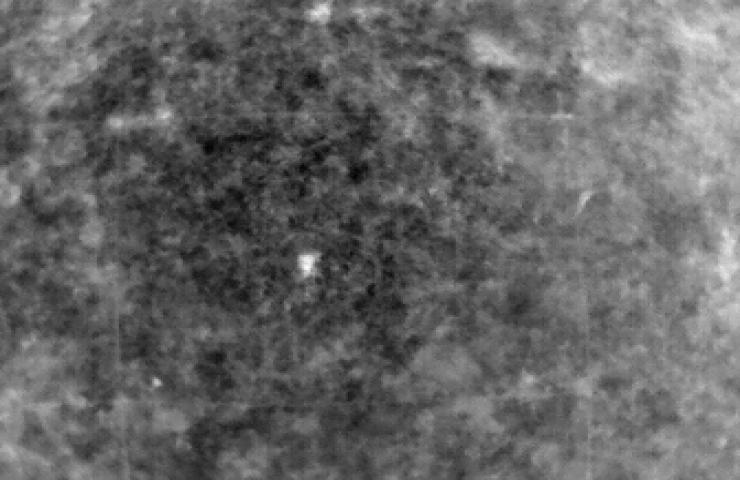landmines: (297, 252, 322, 280)
